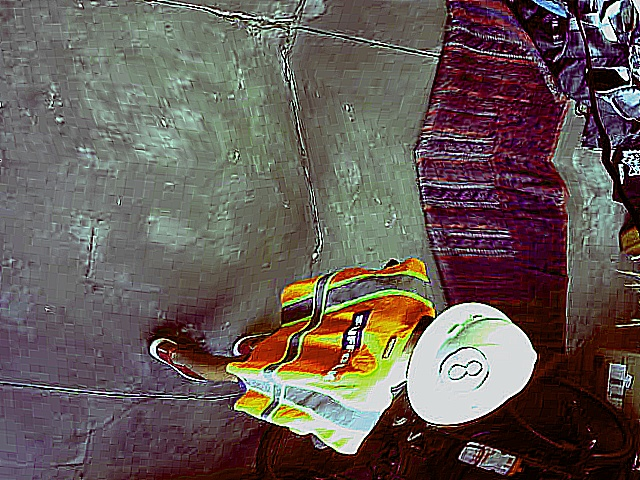eight: (433, 347, 495, 392)
